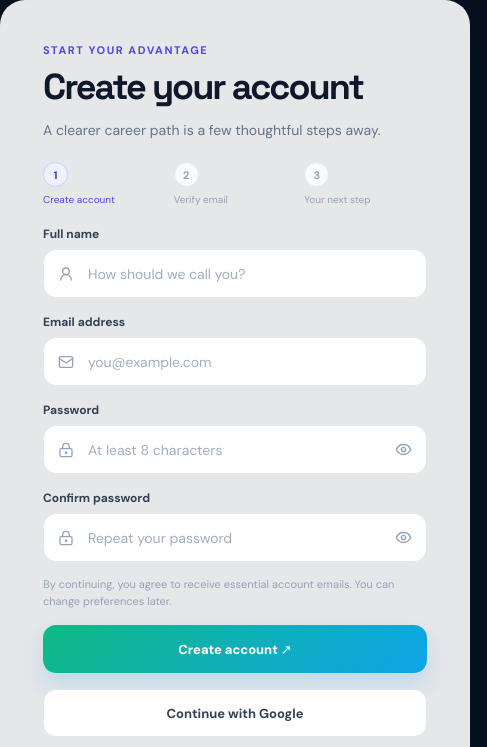
Test case: SignupPage › stays on signup when verification is not available (true)
The width and height of the screenshot is (487, 747).
In the field labelled "Full name": point(250, 274) [74,252,426,296], type "Ava Stone"
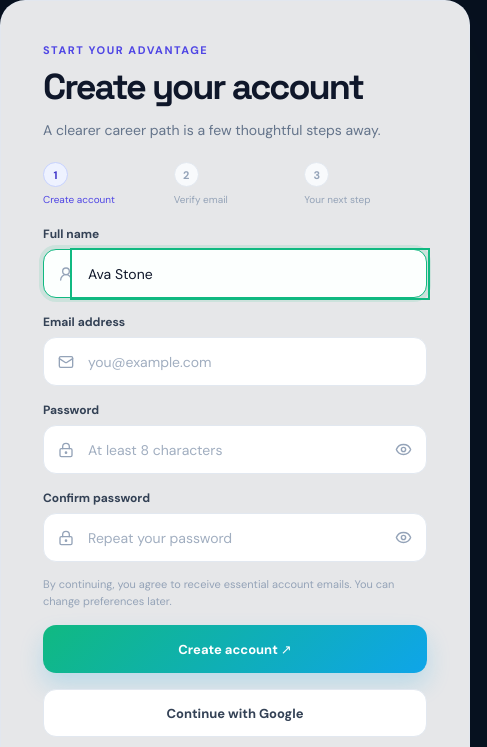
In the field labelled "Email address": point(250, 362) [74,340,426,384], type "ava@example.com"
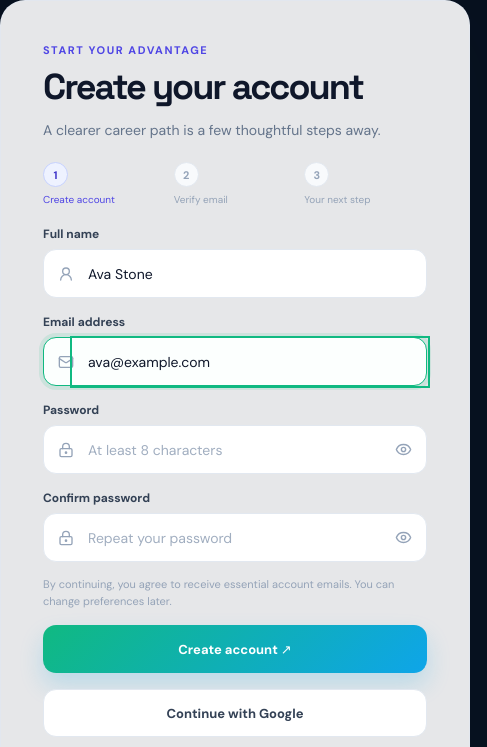
In the password field labelled "Password": point(250, 450) [74,428,426,472], type "password123"
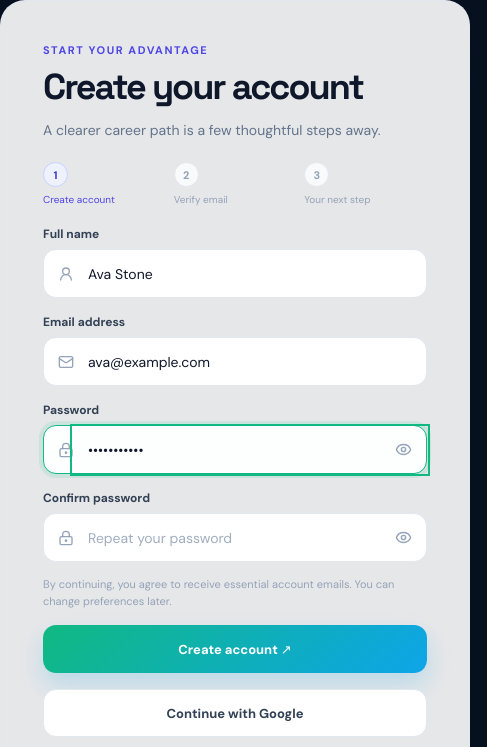
In the password field labelled "Confirm password": point(250, 538) [74,516,426,560], type "password123"
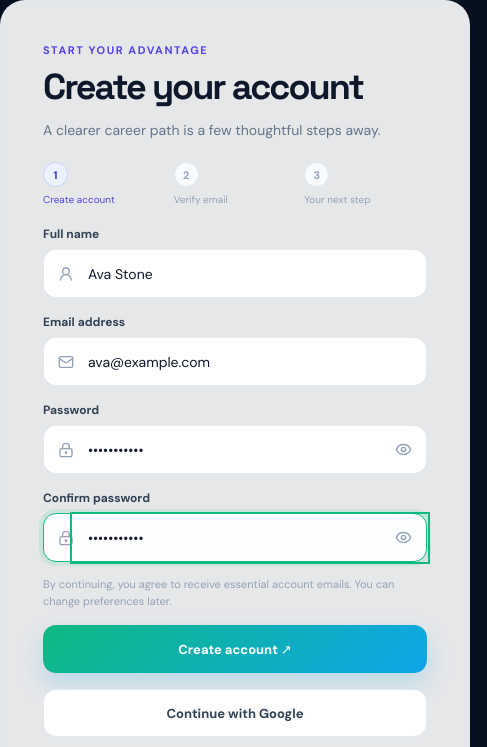
Click the button "Create account ↗": point(235, 649) [43,625,427,673]
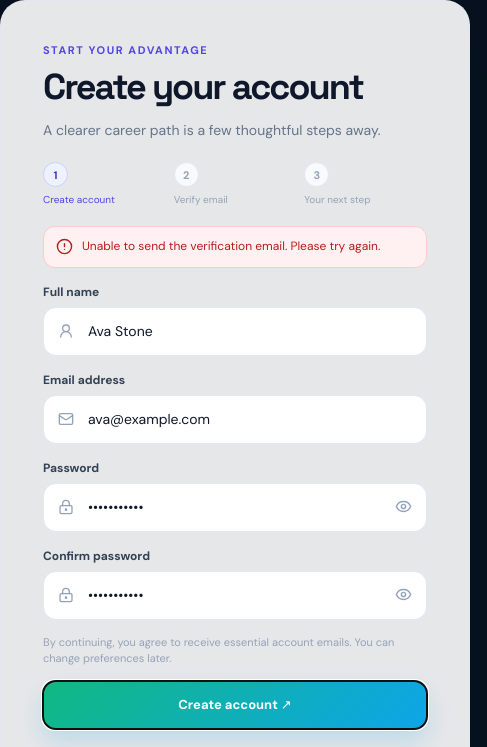
Expected: the message reads "Unable to send the verification email. Please try again.", [82,238,380,254]
